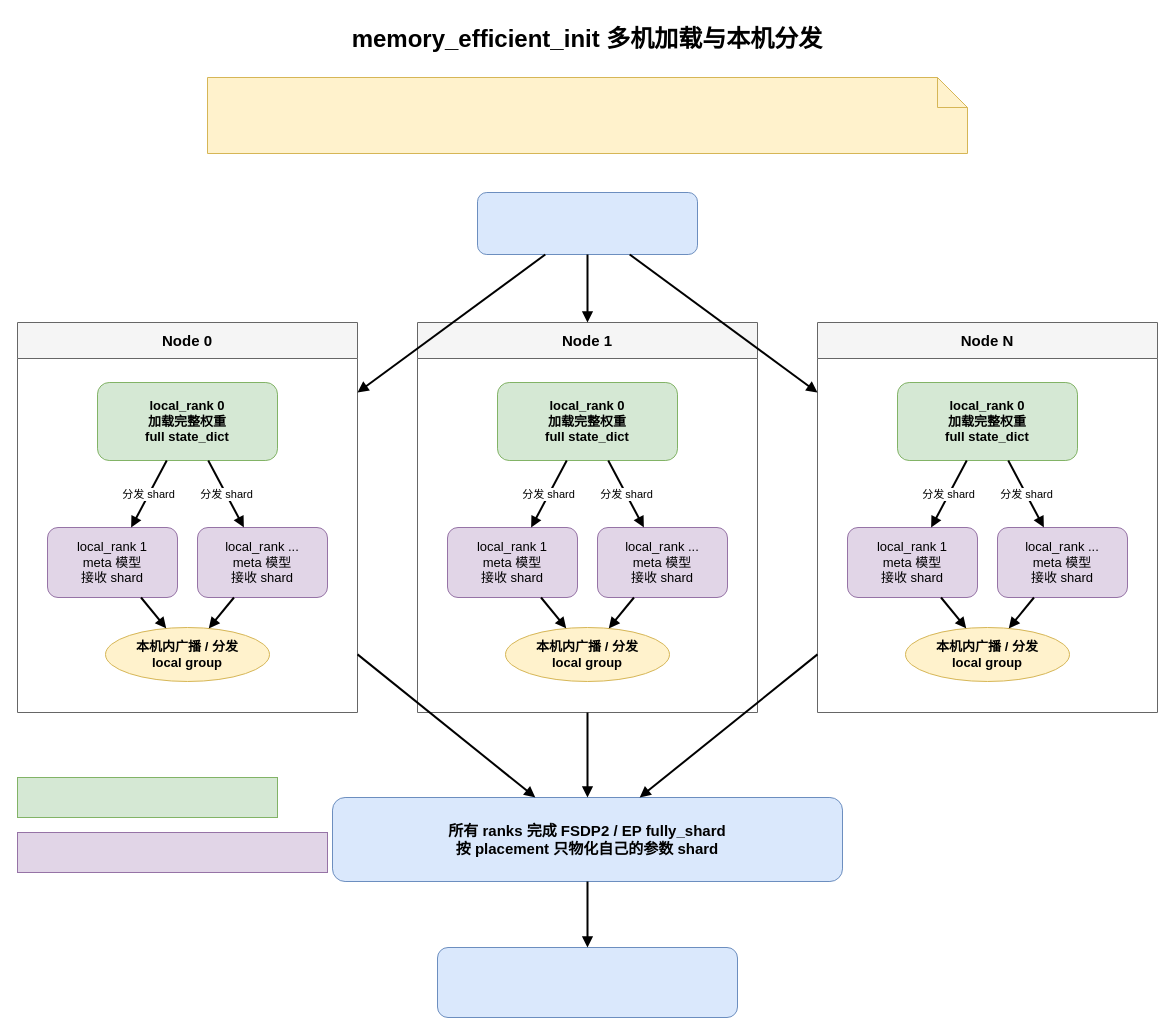
Some shapes in this 1175 by 1035 pixel diagram are drawn without their labels. The shapes that lost their labels are listed below. From the top down, each one's centre as x and y in pixels, then its label:
pixel 587 115: 关键点：多机时不是只有全局 rank 0 加载权重，而是每台机器的 local_rank 0 各自加载完整权重，并在本机内分发给其他 local ranks。
pixel 587 223: 多机训练集群
pixel 147 797: 绿色：本机 local_rank 0，负责加载完整权重
pixel 172 852: 紫色：本机其他 ranks，只创建 meta 模型并接收 shard
pixel 587 982: 进入 LoRA / optimizer / training
